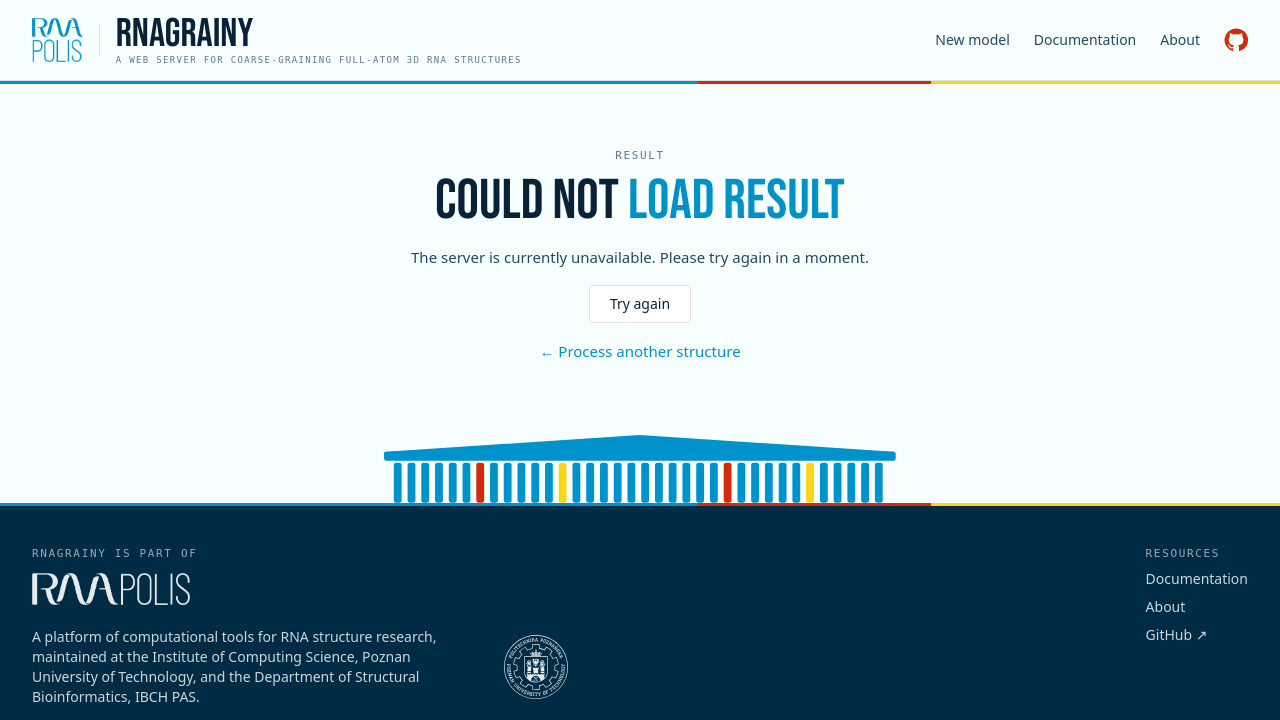
Test: ResultPage › can retry after a network failure
Expected: the heading "Could not load result" is shown, [435, 168, 845, 235]
Expected: the text "server is currently unavailable" is shown, [411, 247, 869, 267]
Click the button "Try again".
click(640, 304)  # box [589, 285, 691, 323]
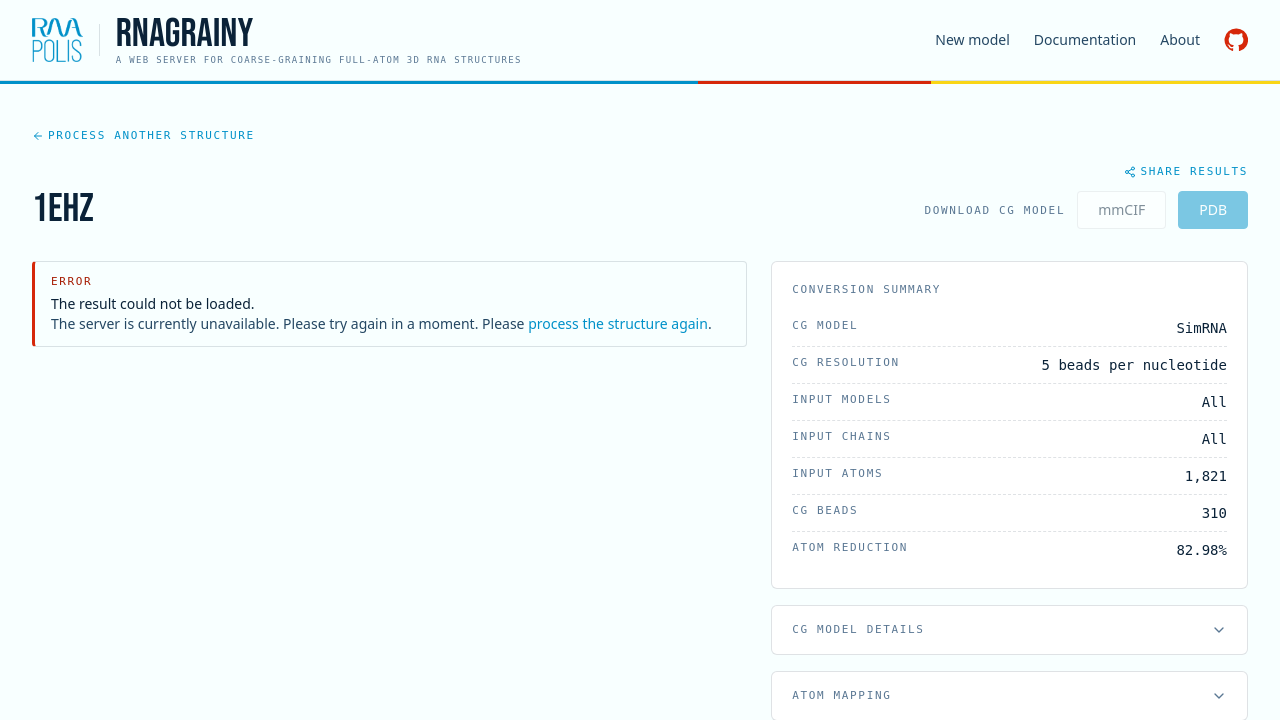
Now the heading "1EHZ" is shown, box [32, 189, 94, 229]
